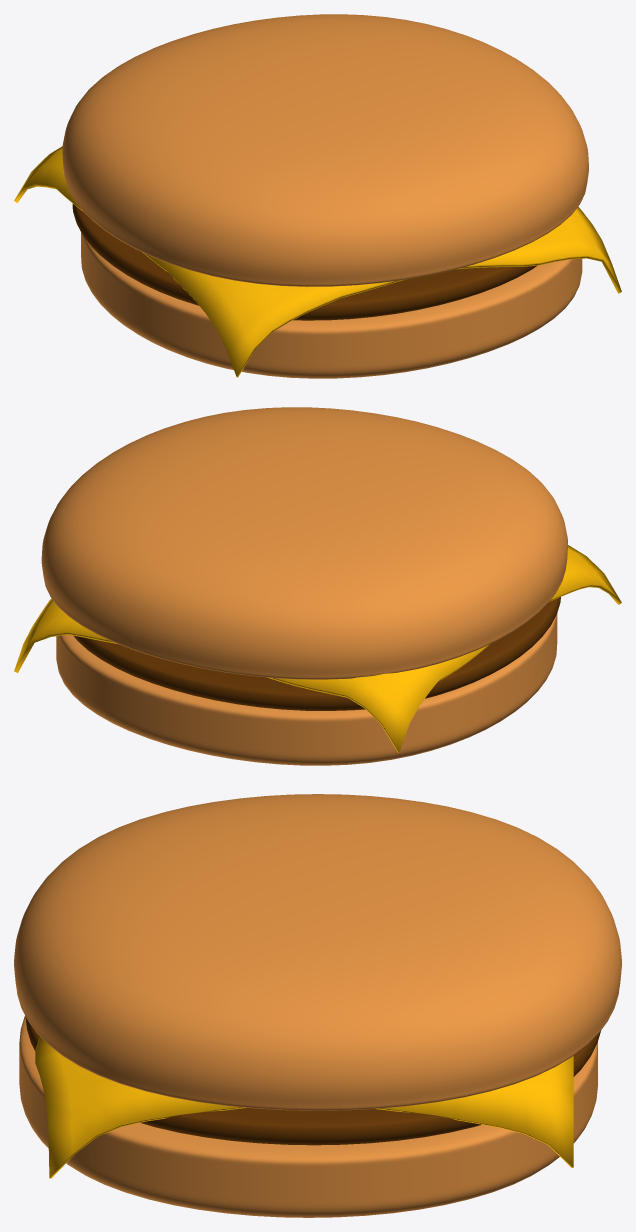
Rendered from hamburger.glb.
3 views of the same model, one above another, from view 1: azimuth 30°, elevation 25°; view 2: azimuth 150°, elevation 25°; view 3: azimuth 270°, elevation 25° (orthographic). The views are drawn at different scales.
Visible parts, largest first — view 1: Cube.002, Cube.003, Plane, Cube.001; view 2: Cube.002, Cube.003, Cube.001, Plane; view 3: Cube.002, Cube.003, Plane, Cube.001.
Boxes of the visible parts, x1,y1,x2,y2 form: Cube.002: [62, 14, 588, 286]; Cube.003: [81, 232, 582, 378]; Plane: [14, 146, 621, 377]; Cube.001: [72, 204, 536, 320]; Cube.002: [41, 407, 567, 679]; Cube.003: [56, 614, 557, 765]; Cube.001: [73, 597, 560, 710]; Plane: [14, 545, 621, 752]; Cube.002: [14, 794, 621, 1110]; Cube.003: [19, 1015, 597, 1217]; Plane: [35, 1036, 573, 1178]; Cube.001: [25, 1017, 600, 1145].
Bounding box in the file's own units: 9.66 × 4.27 × 9.66.
